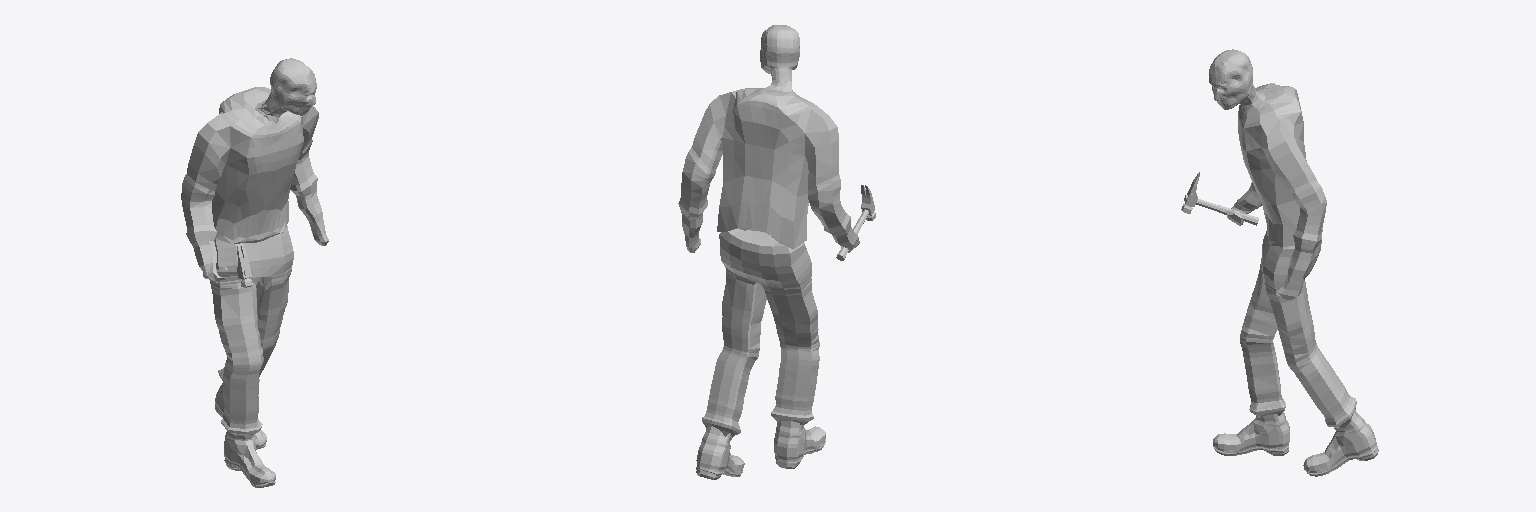
File: Murderer_Idle77.obj
3 renders of one model, left to right at view 1: azimuth 30°, elevation 25°; view 2: azimuth 150°, elevation 25°; view 3: azimuth 270°, elevation 25°, orthographic.
Visible parts, largest first — view 1: Körper, Beine, Stiefel, Hammer; view 2: Körper, Beine, Stiefel, Hammer; view 3: Körper, Beine, Stiefel, Hammer.
Part boxes in pixels (bbox=[...]): Körper: bbox=[181, 58, 328, 282]; Beine: bbox=[209, 226, 293, 435]; Stiefel: bbox=[215, 383, 275, 487]; Hammer: bbox=[203, 243, 252, 287]; Körper: bbox=[678, 25, 859, 252]; Beine: bbox=[702, 228, 819, 439]; Stiefel: bbox=[696, 421, 825, 479]; Hammer: bbox=[836, 185, 875, 260]; Körper: bbox=[1209, 49, 1326, 299]; Beine: bbox=[1240, 229, 1356, 428]; Stiefel: bbox=[1213, 410, 1378, 476]; Hammer: bbox=[1181, 172, 1258, 225].
Bounding box in the file's own units: 0.3533 × 0.961 × 0.4118.